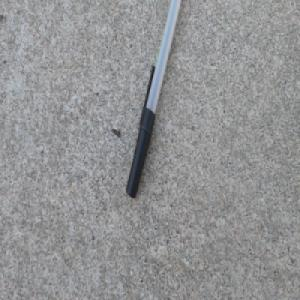Pen: (124, 0, 181, 199)
